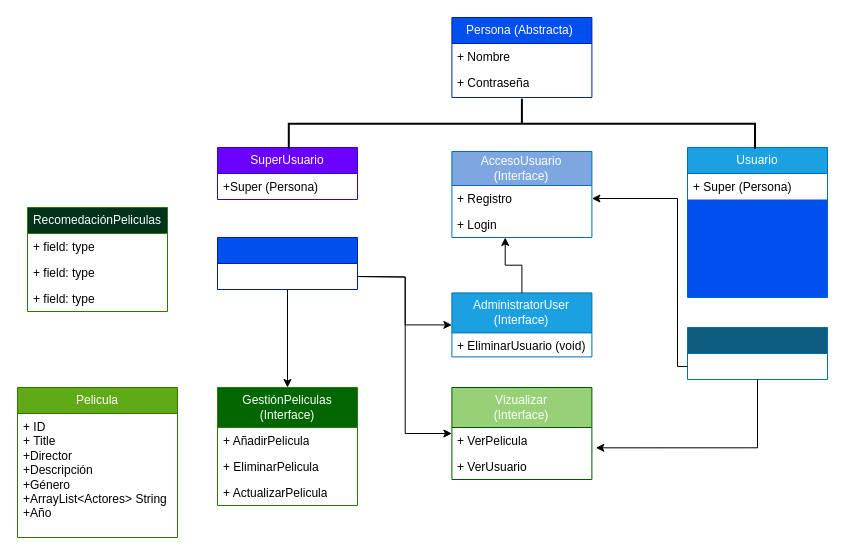
The diagram is 845 pixels wide and 558 high, and some of its shapes have lost their labels. The centre of each missing label's shape, as x and y in pixels:
"+ ID + Email + GeneroFav +ActorFav +DirectorFav" goes at (x=757, y=248).
"GestiónSuperUsuario" goes at (x=287, y=263).
"GestiónUsuario" goes at (x=757, y=353).
